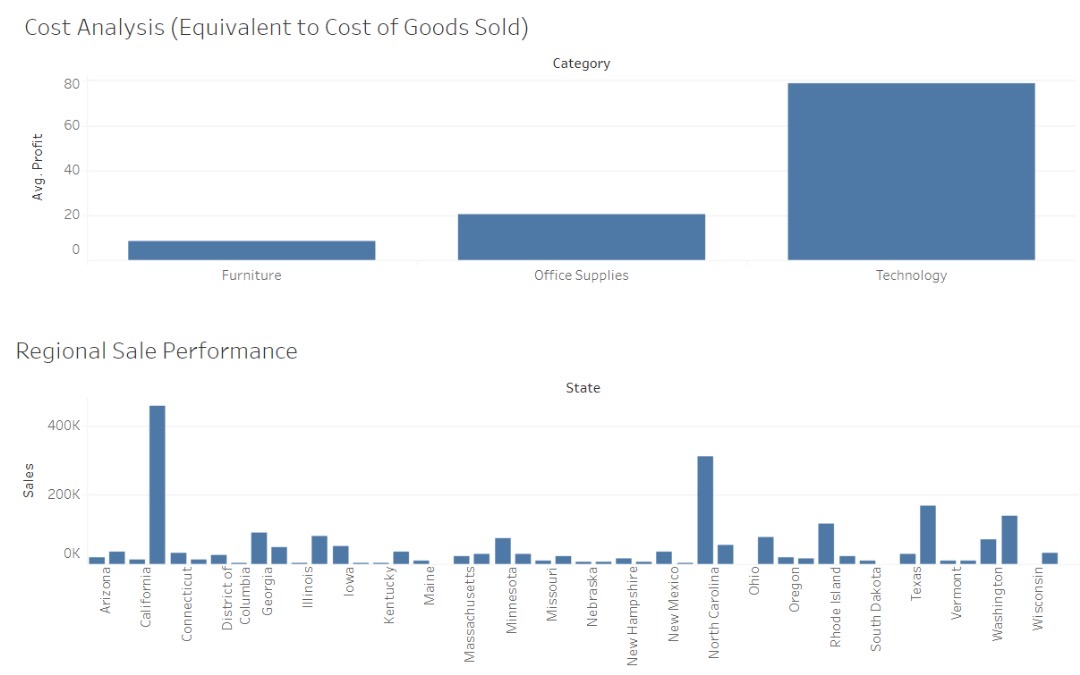

The page's visual inventory and layout, read from the dashboard file:
{"tool":"tableau","page":{"name":"Dashboard 3","canvas":[1000,800],"ordinal":2},"visuals":[{"type":"worksheet","title":"Sheet 4","mark":"Automatic","rows":["Profit"],"cols":["Category"],"box":[25,12,945,269]},{"type":"worksheet","title":"Sheet 5","mark":"Automatic","rows":["Sales"],"cols":["State"],"box":[17,302,956,311]}]}

Visuals, with their boxes on the page's 1000x800 design canvas (x1, y1, x2, y2). These are canvas units, not pixel positions in the 1080x675 screenshot, which may show the page scaled, cropped or inside an application window:
"Sheet 4" worksheet: l=25, t=12, r=970, b=281
"Sheet 5" worksheet: l=17, t=302, r=973, b=613
